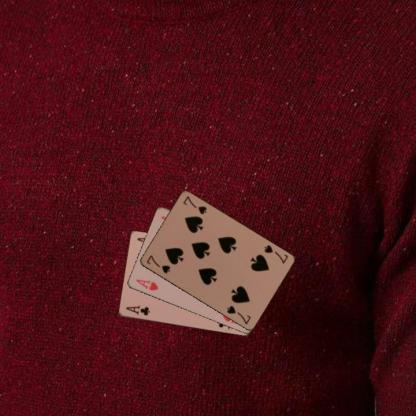7s: (261, 242, 290, 265), (144, 252, 172, 275)
Ac: (123, 302, 151, 318)
Ah: (134, 277, 160, 292)
